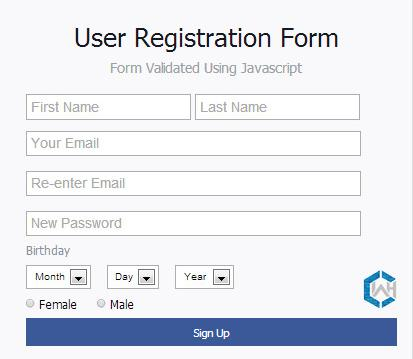button: (24, 317, 398, 348)
field: (25, 130, 361, 158), (24, 170, 362, 197), (25, 211, 362, 237), (195, 93, 362, 121), (25, 93, 191, 120), (25, 264, 93, 289), (174, 265, 234, 290), (106, 264, 159, 290)
field_with_label: (23, 245, 95, 291)
radio: (95, 297, 107, 309), (26, 298, 37, 309)
radio_with_label: (24, 296, 79, 311), (93, 296, 134, 311)
